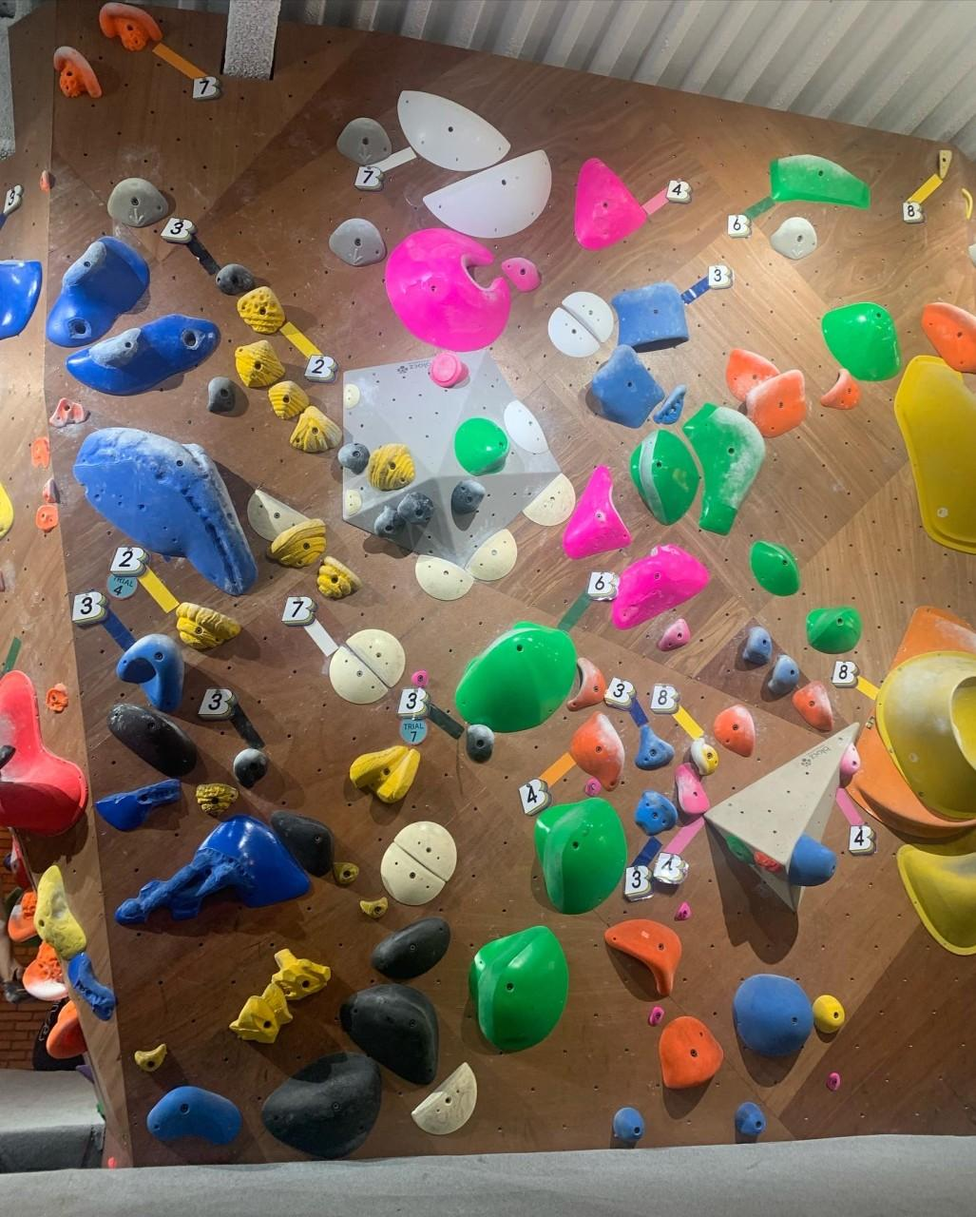hold: (73, 428, 258, 595), (115, 816, 310, 925), (876, 651, 975, 820), (893, 356, 975, 553), (386, 228, 510, 352), (0, 670, 86, 835), (454, 622, 576, 732), (261, 1052, 382, 1158), (469, 926, 568, 1053), (67, 314, 220, 396), (423, 150, 551, 239), (47, 237, 149, 347), (682, 403, 765, 535), (534, 798, 626, 914), (340, 984, 438, 1085), (397, 91, 509, 172), (897, 844, 975, 955), (611, 544, 709, 629), (107, 703, 198, 778), (629, 429, 699, 525), (574, 158, 647, 249), (733, 975, 813, 1057), (563, 465, 632, 559), (821, 302, 901, 381), (603, 918, 681, 997), (589, 345, 663, 428), (146, 1086, 242, 1145), (611, 282, 688, 352), (116, 634, 184, 712), (770, 155, 869, 208), (33, 864, 86, 963), (372, 917, 450, 980), (658, 1015, 723, 1090), (412, 1062, 476, 1135), (95, 778, 181, 829), (548, 291, 613, 358), (381, 840, 447, 905), (271, 810, 335, 877), (570, 711, 624, 790), (349, 746, 420, 805), (744, 370, 806, 437), (229, 978, 292, 1043), (921, 302, 975, 373), (392, 821, 455, 881), (329, 646, 390, 704), (345, 628, 404, 687), (67, 952, 115, 1020), (0, 260, 41, 339), (453, 417, 508, 475), (246, 489, 307, 541), (175, 602, 239, 651), (107, 178, 168, 227), (99, 3, 162, 50), (272, 949, 330, 1000), (725, 348, 780, 401), (268, 519, 326, 568), (523, 473, 575, 526), (749, 541, 799, 596), (22, 941, 67, 1001), (330, 218, 386, 266), (415, 555, 473, 601), (467, 529, 517, 581), (807, 606, 861, 654), (337, 118, 392, 165), (547, 307, 598, 357), (289, 405, 341, 454), (787, 833, 836, 885), (53, 47, 102, 97), (235, 340, 285, 389), (503, 400, 547, 454), (237, 286, 286, 334), (367, 443, 414, 491), (565, 656, 606, 711), (47, 1000, 86, 1057), (713, 705, 755, 757), (793, 681, 833, 732), (634, 790, 678, 836), (316, 556, 360, 600), (772, 217, 817, 260), (675, 761, 710, 814), (634, 724, 674, 770), (820, 368, 860, 410), (195, 782, 239, 820), (268, 381, 309, 419), (429, 351, 468, 388), (233, 747, 268, 788), (9, 891, 37, 942), (215, 263, 256, 296), (501, 258, 540, 292), (769, 654, 799, 697), (654, 385, 686, 425), (741, 626, 773, 666), (48, 397, 88, 429), (451, 479, 486, 515), (813, 995, 845, 1034), (735, 1101, 766, 1141), (612, 1107, 644, 1145), (465, 724, 494, 763), (11, 833, 31, 889), (397, 492, 432, 524), (207, 377, 236, 414), (690, 737, 718, 775), (658, 618, 690, 651), (337, 442, 370, 474), (373, 505, 404, 538), (134, 1043, 167, 1073), (839, 743, 860, 786), (723, 834, 753, 864), (0, 481, 13, 538), (35, 503, 58, 533), (30, 435, 50, 468), (332, 861, 358, 886), (46, 684, 68, 713), (360, 897, 388, 919), (754, 851, 782, 873), (343, 488, 362, 518), (936, 149, 951, 181), (43, 475, 59, 503), (343, 383, 360, 408), (963, 187, 975, 220), (647, 1005, 664, 1026), (584, 778, 602, 797), (0, 745, 14, 769), (674, 901, 691, 920), (411, 669, 428, 687), (826, 1072, 841, 1091), (40, 170, 52, 192)
volume: (337, 351, 560, 567), (701, 724, 860, 911)
